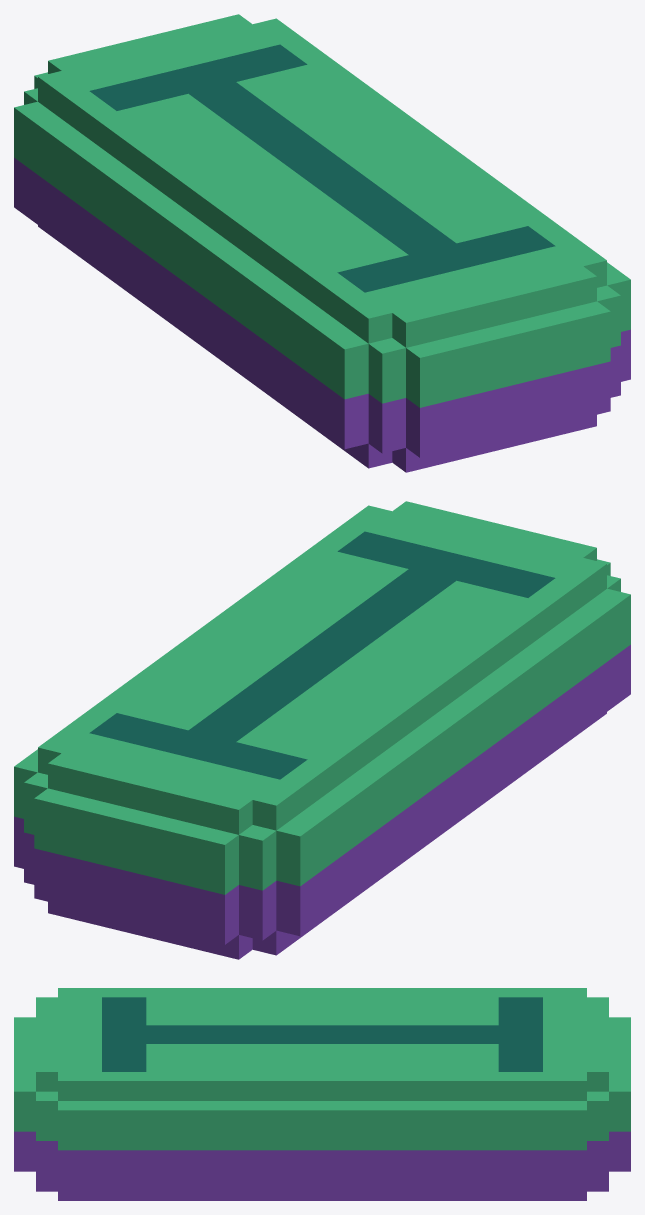
Rendered from SwapIOBotonFix.fbx.
The picture shows the model from 3 angles, top to bottom: view 1: azimuth 30°, elevation 25°; view 2: azimuth 150°, elevation 25°; view 3: azimuth 270°, elevation 25°; orthographic projection. The views are drawn at different scales.
Visible parts, largest first — view 1: Untitled; view 2: Untitled; view 3: Untitled.
Boxes of the visible parts, x1,y1,x2,y2 form: Untitled: (14,14,630,472); Untitled: (14,501,630,959); Untitled: (14,988,630,1200).
Size of the model in its own units: 120 by 60 by 280.
